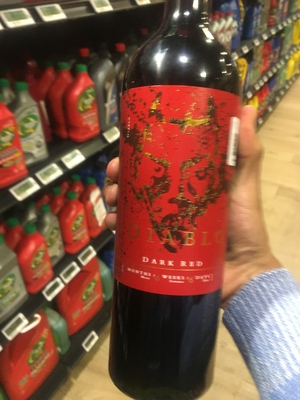diablo dark red: (104, 30, 251, 400)
